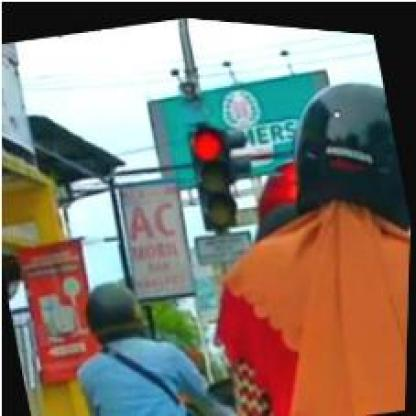red: (184, 120, 245, 228)
